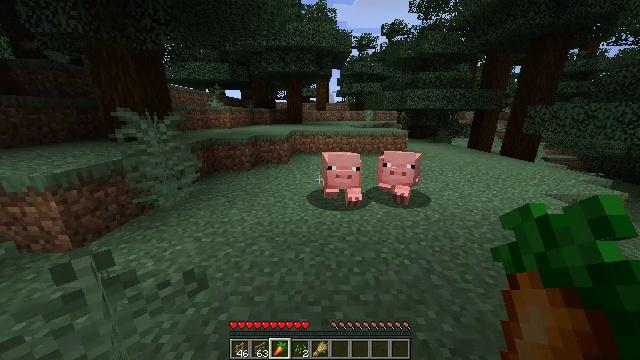pig: (320, 152, 363, 206), (379, 152, 422, 204)
